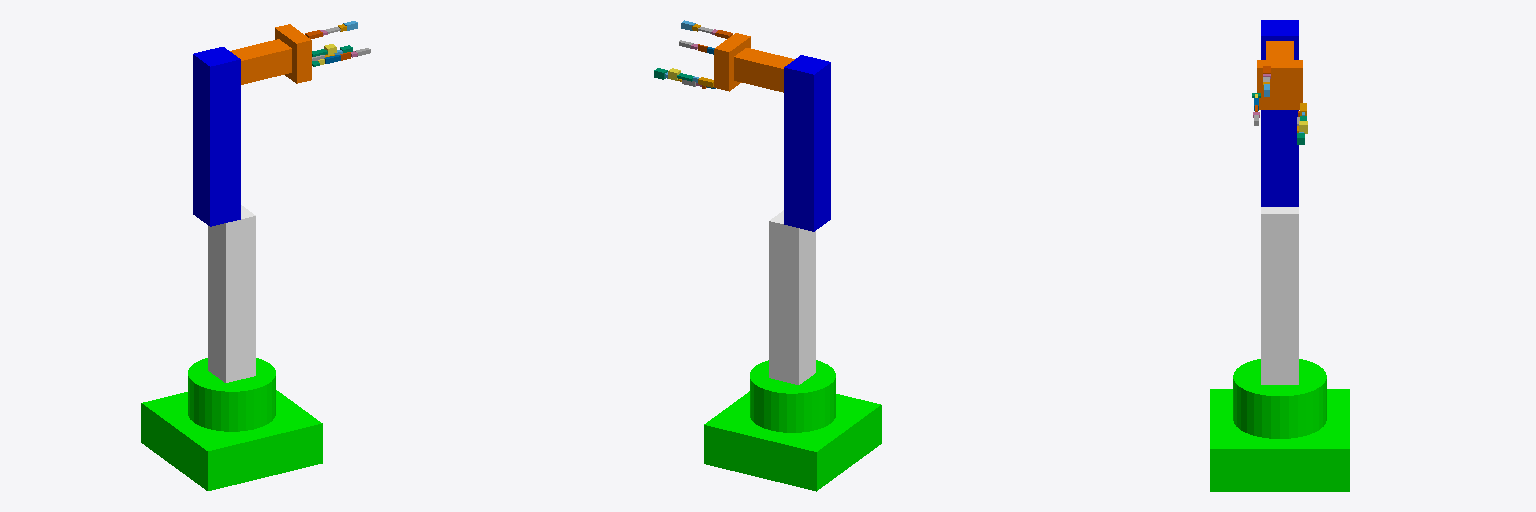
The robot description file, URDF, robot "robot":
<?xml version='1.0' encoding='utf-8'?>
<robot name="robot">
  <link name="base_link">
    <visual>
      <origin xyz="0 0 0.125" rpy="0 0 0" />
      <geometry>
        <box size="0.75 0.75 0.25" />
      </geometry>
      <material name="green" />
    </visual>
    <visual>
      <origin xyz="0 0 0.375" rpy="0 0 0" />
      <geometry>
        <cylinder length="0.25" radius="0.25" />
      </geometry>
      <material name="green">
        <color rgba="0 1 0 1" />
      </material>
    </visual>
    <collision>
      <geometry>
        <box size="0.75 0.75 0.5" />
      </geometry>
    </collision>
    <inertial>
      <mass value="0.5" />
      <inertia ixx="0.034" ixy="0.0" ixz="0.0" iyy="0.034" iyz="0.0" izz="0.034" />
    </inertial>
  </link>
  <link name="support_link">
    <visual>
      <origin xyz="0 0 0.5" rpy="0 0 0" />
      <geometry>
        <box size="0.2 0.2 1" />
      </geometry>
      <material name="white">
        <color rgba="1 1 1 1" />
      </material>
    </visual>
    <collision>
      <geometry>
        <box size="0.2 0.2 1" />
      </geometry>
    </collision>
    <inertial>
      <mass value="0.1" />
      <inertia ixx="0.01" ixy="0.0" ixz="0.0" iyy="0.01" iyz="0.0" izz="0.01" />
    </inertial>
  </link>
  <joint name="support_joint" type="continuous">
    <origin xyz="0 0 0.5" rpy="0 0 0" />
    <parent link="base_link" />
    <child link="support_link" />
    <axis xyz="0 0 1" />
  </joint>
  <link name="arm_link">
    <visual>
      <origin xyz="0 0 0.5" rpy="0 0 0" />
      <geometry>
        <box size="0.2 0.2 1" />
      </geometry>
      <material name="blue">
        <color rgba="0 0 1 1" />
      </material>
    </visual>
    <collision>
      <geometry>
        <box size="0.2 0.2 1" />
      </geometry>
    </collision>
    <inertial>
      <mass value="0.1" />
      <inertia ixx="0.01" ixy="0.0" ixz="0.0" iyy="0.01" iyz="0.0" izz="0.01" />
    </inertial>
  </link>
  <joint name="arm_joint" type="revolute">
    <origin xyz="-0.1 0 1" rpy="0 0 0" />
    <parent link="support_link" />
    <child link="arm_link" />
    <axis xyz="0 1 0" />
    <limit lower="-3.14" upper="3.14" effort="1.0" velocity="1.0" />
  </joint>
  <link name="wrist_link">
    <visual>
      <origin xyz="0 0 0.25" rpy="0 0 0" />
      <geometry>
        <box size="0.15 0.15 0.5" />
      </geometry>
      <material name="orange">
        <color rgba="1 0.5 0 1" />
      </material>
    </visual>
    <collision>
      <geometry>
        <box size="0.15 0.15 0.5" />
      </geometry>
    </collision>
    <inertial>
      <mass value="0.1" />
      <inertia ixx="0.01" ixy="0.0" ixz="0.0" iyy="0.01" iyz="0.0" izz="0.01" />
    </inertial>
  </link>
  <joint name="wrist_joint" type="fixed">
    <origin xyz="0 0 0.9" rpy="0 1.571 0" />
    <parent link="arm_link" />
    <child link="wrist_link" />
  </joint>
  <link name="palm_link">
    <visual>
      <origin xyz="0 0 0.05" rpy="0 0 0" />
      <geometry>
        <box size="0.25 0.25 0.1" />
      </geometry>
      <material name="orange" />
    </visual>
    <collision>
      <geometry>
        <box size="0.25 0.25 0.1" />
      </geometry>
    </collision>
    <inertial>
      <mass value="0.1" />
      <inertia ixx="0.01" ixy="0.0" ixz="0.0" iyy="0.01" iyz="0.0" izz="0.01" />
    </inertial>
  </link>
  <joint name="palm_joint" type="fixed">
    <origin xyz="0 0 0.45" rpy="0 0 0" />
    <parent link="wrist_link" />
    <child link="palm_link" />
  </joint>
  <link name="finger_link_0_0">
    <visual>
      <origin xyz="0 0 0.046" rpy="0 0 0" />
      <geometry>
        <box size="0.023 0.045 0.092" />
      </geometry>
    </visual>
    <collision>
      <geometry>
        <box size="0.023 0.045 0.092" />
      </geometry>
    </collision>
    <inertial>
      <mass value="0.029" />
      <inertia ixx="0.0" iyy="0.0" izz="0.0" ixy="0" ixz="0" iyz="0" />
    </inertial>
  </link>
  <joint name="finger_joint_palm_link_to_finger_link_0_0" type="revolute">
    <origin xyz="-0.125 -0.07 0.1" rpy="0 0 0" />
    <parent link="palm_link" />
    <child link="finger_link_0_0" />
    <axis xyz="0.0 -1.0 0.0" />
    <limit lower="-3.142" upper="3.142" effort="10" velocity="10" />
  </joint>
  <link name="finger_link_0_1">
    <visual>
      <origin xyz="0 0 0.0155" rpy="0 0 0" />
      <geometry>
        <box size="0.015 0.043 0.031" />
      </geometry>
    </visual>
    <collision>
      <geometry>
        <box size="0.015 0.043 0.031" />
      </geometry>
    </collision>
    <inertial>
      <mass value="0.006" />
      <inertia ixx="0.0" iyy="0.0" izz="0.0" ixy="0" ixz="0" iyz="0" />
    </inertial>
  </link>
  <joint name="finger_joint_finger_link_0_0_to_finger_link_0_1" type="revolute">
    <origin xyz="0.0 0.0 0.092" rpy="0 0 0" />
    <parent link="finger_link_0_0" />
    <child link="finger_link_0_1" />
    <axis xyz="0.0 1.0 0.0" />
    <limit lower="-3.142" upper="3.142" effort="10" velocity="10" />
  </joint>
  <link name="finger_link_0_2">
    <visual>
      <origin xyz="0 0 0.044" rpy="0 0 0" />
      <geometry>
        <box size="0.011 0.037 0.088" />
      </geometry>
    </visual>
    <collision>
      <geometry>
        <box size="0.011 0.037 0.088" />
      </geometry>
    </collision>
    <inertial>
      <mass value="0.011" />
      <inertia ixx="0.0" iyy="0.0" izz="0.0" ixy="0" ixz="0" iyz="0" />
    </inertial>
  </link>
  <joint name="finger_joint_finger_link_0_1_to_finger_link_0_2" type="revolute">
    <origin xyz="0.0 0.0 0.031" rpy="0 0 0" />
    <parent link="finger_link_0_1" />
    <child link="finger_link_0_2" />
    <axis xyz="0.0 1.0 0.0" />
    <limit lower="-3.142" upper="3.142" effort="10" velocity="10" />
  </joint>
  <link name="finger_link_0_3">
    <visual>
      <origin xyz="0 0 0.0185" rpy="0 0 0" />
      <geometry>
        <box size="0.025 0.038 0.037" />
      </geometry>
    </visual>
    <collision>
      <geometry>
        <box size="0.025 0.038 0.037" />
      </geometry>
    </collision>
    <inertial>
      <mass value="0.011" />
      <inertia ixx="0.0" iyy="0.0" izz="0.0" ixy="0" ixz="0" iyz="0" />
    </inertial>
  </link>
  <joint name="finger_joint_finger_link_0_2_to_finger_link_0_3" type="revolute">
    <origin xyz="0.0 0.0 0.088" rpy="0 0 0" />
    <parent link="finger_link_0_2" />
    <child link="finger_link_0_3" />
    <axis xyz="1.0 0.0 0.0" />
    <limit lower="-3.142" upper="3.142" effort="10" velocity="10" />
  </joint>
  <link name="finger_link_0_4">
    <visual>
      <origin xyz="0 0 0.037" rpy="0 0 0" />
      <geometry>
        <box size="0.037 0.035 0.074" />
      </geometry>
    </visual>
    <collision>
      <geometry>
        <box size="0.037 0.035 0.074" />
      </geometry>
    </collision>
    <inertial>
      <mass value="0.029" />
      <inertia ixx="0.0" iyy="0.0" izz="0.0" ixy="0" ixz="0" iyz="0" />
    </inertial>
  </link>
  <joint name="finger_joint_finger_link_0_3_to_finger_link_0_4" type="revolute">
    <origin xyz="0.0 0.0 0.037" rpy="0 0 0" />
    <parent link="finger_link_0_3" />
    <child link="finger_link_0_4" />
    <axis xyz="0.0 1.0 0.0" />
    <limit lower="-3.142" upper="3.142" effort="10" velocity="10" />
  </joint>
  <link name="finger_link_1_0">
    <visual>
      <origin xyz="0 0 0.021" rpy="0 0 0" />
      <geometry>
        <box size="0.011 0.048 0.042" />
      </geometry>
    </visual>
    <collision>
      <geometry>
        <box size="0.011 0.048 0.042" />
      </geometry>
    </collision>
    <inertial>
      <mass value="0.007" />
      <inertia ixx="0.0" iyy="0.0" izz="0.0" ixy="0" ixz="0" iyz="0" />
    </inertial>
  </link>
  <joint name="finger_joint_palm_link_to_finger_link_1_0" type="revolute">
    <origin xyz="0.027 -0.125 0.1" rpy="0 0 0" />
    <parent link="palm_link" />
    <child link="finger_link_1_0" />
    <axis xyz="1.0 0.0 0.0" />
    <limit lower="-3.142" upper="3.142" effort="10" velocity="10" />
  </joint>
  <link name="finger_link_1_1">
    <visual>
      <origin xyz="0 0 0.0215" rpy="0 0 0" />
      <geometry>
        <box size="0.031 0.012 0.043" />
      </geometry>
    </visual>
    <collision>
      <geometry>
        <box size="0.031 0.012 0.043" />
      </geometry>
    </collision>
    <inertial>
      <mass value="0.005" />
      <inertia ixx="0.0" iyy="0.0" izz="0.0" ixy="0" ixz="0" iyz="0" />
    </inertial>
  </link>
  <joint name="finger_joint_finger_link_1_0_to_finger_link_1_1" type="revolute">
    <origin xyz="0.0 0.0 0.042" rpy="0 0 0" />
    <parent link="finger_link_1_0" />
    <child link="finger_link_1_1" />
    <axis xyz="1.0 0.0 0.0" />
    <limit lower="-3.142" upper="3.142" effort="10" velocity="10" />
  </joint>
  <link name="finger_link_1_2">
    <visual>
      <origin xyz="0 0 0.0495" rpy="0 0 0" />
      <geometry>
        <box size="0.031 0.023 0.099" />
      </geometry>
    </visual>
    <collision>
      <geometry>
        <box size="0.031 0.023 0.099" />
      </geometry>
    </collision>
    <inertial>
      <mass value="0.021" />
      <inertia ixx="0.0" iyy="0.0" izz="0.0" ixy="0" ixz="0" iyz="0" />
    </inertial>
  </link>
  <joint name="finger_joint_finger_link_1_1_to_finger_link_1_2" type="revolute">
    <origin xyz="0.0 0.0 0.043" rpy="0 0 0" />
    <parent link="finger_link_1_1" />
    <child link="finger_link_1_2" />
    <axis xyz="0.0 1.0 0.0" />
    <limit lower="-3.142" upper="3.142" effort="10" velocity="10" />
  </joint>
  <link name="finger_link_1_3">
    <visual>
      <origin xyz="0 0 0.034" rpy="0 0 0" />
      <geometry>
        <box size="0.037 0.013 0.068" />
      </geometry>
    </visual>
    <collision>
      <geometry>
        <box size="0.037 0.013 0.068" />
      </geometry>
    </collision>
    <inertial>
      <mass value="0.01" />
      <inertia ixx="0.0" iyy="0.0" izz="0.0" ixy="0" ixz="0" iyz="0" />
    </inertial>
  </link>
  <joint name="finger_joint_finger_link_1_2_to_finger_link_1_3" type="revolute">
    <origin xyz="0.0 0.0 0.099" rpy="0 0 0" />
    <parent link="finger_link_1_2" />
    <child link="finger_link_1_3" />
    <axis xyz="1.0 0.0 0.0" />
    <limit lower="-3.142" upper="3.142" effort="10" velocity="10" />
  </joint>
  <link name="finger_link_1_4">
    <visual>
      <origin xyz="0 0 0.019" rpy="0 0 0" />
      <geometry>
        <box size="0.018 0.035 0.038" />
      </geometry>
    </visual>
    <collision>
      <geometry>
        <box size="0.018 0.035 0.038" />
      </geometry>
    </collision>
    <inertial>
      <mass value="0.007" />
      <inertia ixx="0.0" iyy="0.0" izz="0.0" ixy="0" ixz="0" iyz="0" />
    </inertial>
  </link>
  <joint name="finger_joint_finger_link_1_3_to_finger_link_1_4" type="revolute">
    <origin xyz="0.0 0.0 0.068" rpy="0 0 0" />
    <parent link="finger_link_1_3" />
    <child link="finger_link_1_4" />
    <axis xyz="0.0 1.0 0.0" />
    <limit lower="-3.142" upper="3.142" effort="10" velocity="10" />
  </joint>
  <link name="finger_link_1_5">
    <visual>
      <origin xyz="0 0 0.0425" rpy="0 0 0" />
      <geometry>
        <box size="0.025 0.027 0.085" />
      </geometry>
    </visual>
    <collision>
      <geometry>
        <box size="0.025 0.027 0.085" />
      </geometry>
    </collision>
    <inertial>
      <mass value="0.017" />
      <inertia ixx="0.0" iyy="0.0" izz="0.0" ixy="0" ixz="0" iyz="0" />
    </inertial>
  </link>
  <joint name="finger_joint_finger_link_1_4_to_finger_link_1_5" type="revolute">
    <origin xyz="0.0 0.0 0.038" rpy="0 0 0" />
    <parent link="finger_link_1_4" />
    <child link="finger_link_1_5" />
    <axis xyz="0.0 1.0 0.0" />
    <limit lower="-3.142" upper="3.142" effort="10" velocity="10" />
  </joint>
  <link name="finger_link_2_0">
    <visual>
      <origin xyz="0 0 0.0485" rpy="0 0 0" />
      <geometry>
        <box size="0.033 0.037 0.097" />
      </geometry>
    </visual>
    <collision>
      <geometry>
        <box size="0.033 0.037 0.097" />
      </geometry>
    </collision>
    <inertial>
      <mass value="0.036" />
      <inertia ixx="0.0" iyy="0.0" izz="0.0" ixy="0" ixz="0" iyz="0" />
    </inertial>
  </link>
  <joint name="finger_joint_palm_link_to_finger_link_2_0" type="revolute">
    <origin xyz="0.101 0.125 0.1" rpy="0 0 0" />
    <parent link="palm_link" />
    <child link="finger_link_2_0" />
    <axis xyz="-1.0 0.0 0.0" />
    <limit lower="-3.142" upper="3.142" effort="10" velocity="10" />
  </joint>
  <link name="finger_link_2_1">
    <visual>
      <origin xyz="0 0 0.0215" rpy="0 0 0" />
      <geometry>
        <box size="0.027 0.018 0.043" />
      </geometry>
    </visual>
    <collision>
      <geometry>
        <box size="0.027 0.018 0.043" />
      </geometry>
    </collision>
    <inertial>
      <mass value="0.006" />
      <inertia ixx="0.0" iyy="0.0" izz="0.0" ixy="0" ixz="0" iyz="0" />
    </inertial>
  </link>
  <joint name="finger_joint_finger_link_2_0_to_finger_link_2_1" type="revolute">
    <origin xyz="0.0 0.0 0.097" rpy="0 0 0" />
    <parent link="finger_link_2_0" />
    <child link="finger_link_2_1" />
    <axis xyz="0.0 1.0 0.0" />
    <limit lower="-3.142" upper="3.142" effort="10" velocity="10" />
  </joint>
  <link name="finger_link_2_2">
    <visual>
      <origin xyz="0 0 0.048" rpy="0 0 0" />
      <geometry>
        <box size="0.017 0.042 0.096" />
      </geometry>
    </visual>
    <collision>
      <geometry>
        <box size="0.017 0.042 0.096" />
      </geometry>
    </collision>
    <inertial>
      <mass value="0.021" />
      <inertia ixx="0.0" iyy="0.0" izz="0.0" ixy="0" ixz="0" iyz="0" />
    </inertial>
  </link>
  <joint name="finger_joint_finger_link_2_1_to_finger_link_2_2" type="revolute">
    <origin xyz="0.0 0.0 0.043" rpy="0 0 0" />
    <parent link="finger_link_2_1" />
    <child link="finger_link_2_2" />
    <axis xyz="0.0 1.0 0.0" />
    <limit lower="-3.142" upper="3.142" effort="10" velocity="10" />
  </joint>
  <link name="finger_link_2_3">
    <visual>
      <origin xyz="0 0 0.0285" rpy="0 0 0" />
      <geometry>
        <box size="0.049 0.049 0.057" />
      </geometry>
    </visual>
    <collision>
      <geometry>
        <box size="0.049 0.049 0.057" />
      </geometry>
    </collision>
    <inertial>
      <mass value="0.041" />
      <inertia ixx="0.0" iyy="0.0" izz="0.0" ixy="0" ixz="0" iyz="0" />
    </inertial>
  </link>
  <joint name="finger_joint_finger_link_2_2_to_finger_link_2_3" type="revolute">
    <origin xyz="0.0 0.0 0.096" rpy="0 0 0" />
    <parent link="finger_link_2_2" />
    <child link="finger_link_2_3" />
    <axis xyz="1.0 0.0 0.0" />
    <limit lower="-3.142" upper="3.142" effort="10" velocity="10" />
  </joint>
  <link name="finger_link_3_0">
    <visual>
      <origin xyz="0 0 0.0305" rpy="0 0 0" />
      <geometry>
        <box size="0.023 0.013 0.061" />
      </geometry>
    </visual>
    <collision>
      <geometry>
        <box size="0.023 0.013 0.061" />
      </geometry>
    </collision>
    <inertial>
      <mass value="0.005" />
      <inertia ixx="0.0" iyy="0.0" izz="0.0" ixy="0" ixz="0" iyz="0" />
    </inertial>
  </link>
  <joint name="finger_joint_palm_link_to_finger_link_3_0" type="revolute">
    <origin xyz="0.125 0.113 0.1" rpy="0 0 0" />
    <parent link="palm_link" />
    <child link="finger_link_3_0" />
    <axis xyz="0.0 1.0 0.0" />
    <limit lower="-3.142" upper="3.142" effort="10" velocity="10" />
  </joint>
  <link name="finger_link_3_1">
    <visual>
      <origin xyz="0 0 0.01" rpy="0 0 0" />
      <geometry>
        <box size="0.047 0.03 0.02" />
      </geometry>
    </visual>
    <collision>
      <geometry>
        <box size="0.047 0.03 0.02" />
      </geometry>
    </collision>
    <inertial>
      <mass value="0.008" />
      <inertia ixx="0.0" iyy="0.0" izz="0.0" ixy="0" ixz="0" iyz="0" />
    </inertial>
  </link>
  <joint name="finger_joint_finger_link_3_0_to_finger_link_3_1" type="revolute">
    <origin xyz="0.0 0.0 0.061" rpy="0 0 0" />
    <parent link="finger_link_3_0" />
    <child link="finger_link_3_1" />
    <axis xyz="0.0 1.0 0.0" />
    <limit lower="-3.142" upper="3.142" effort="10" velocity="10" />
  </joint>
  <link name="finger_link_3_2">
    <visual>
      <origin xyz="0 0 0.021" rpy="0 0 0" />
      <geometry>
        <box size="0.029 0.017 0.042" />
      </geometry>
    </visual>
    <collision>
      <geometry>
        <box size="0.029 0.017 0.042" />
      </geometry>
    </collision>
    <inertial>
      <mass value="0.006" />
      <inertia ixx="0.0" iyy="0.0" izz="0.0" ixy="0" ixz="0" iyz="0" />
    </inertial>
  </link>
  <joint name="finger_joint_finger_link_3_1_to_finger_link_3_2" type="revolute">
    <origin xyz="0.0 0.0 0.02" rpy="0 0 0" />
    <parent link="finger_link_3_1" />
    <child link="finger_link_3_2" />
    <axis xyz="0.0 1.0 0.0" />
    <limit lower="-3.142" upper="3.142" effort="10" velocity="10" />
  </joint>
  <link name="finger_link_3_3">
    <visual>
      <origin xyz="0 0 0.0445" rpy="0 0 0" />
      <geometry>
        <box size="0.037 0.046 0.089" />
      </geometry>
    </visual>
    <collision>
      <geometry>
        <box size="0.037 0.046 0.089" />
      </geometry>
    </collision>
    <inertial>
      <mass value="0.045" />
      <inertia ixx="0.0" iyy="0.0" izz="0.0" ixy="0" ixz="0" iyz="0" />
    </inertial>
  </link>
  <joint name="finger_joint_finger_link_3_2_to_finger_link_3_3" type="revolute">
    <origin xyz="0.0 0.0 0.042" rpy="0 0 0" />
    <parent link="finger_link_3_2" />
    <child link="finger_link_3_3" />
    <axis xyz="0.0 1.0 0.0" />
    <limit lower="-3.142" upper="3.142" effort="10" velocity="10" />
  </joint>
  <link name="finger_link_3_4">
    <visual>
      <origin xyz="0 0 0.0325" rpy="0 0 0" />
      <geometry>
        <box size="0.012 0.048 0.065" />
      </geometry>
    </visual>
    <collision>
      <geometry>
        <box size="0.012 0.048 0.065" />
      </geometry>
    </collision>
    <inertial>
      <mass value="0.011" />
      <inertia ixx="0.0" iyy="0.0" izz="0.0" ixy="0" ixz="0" iyz="0" />
    </inertial>
  </link>
  <joint name="finger_joint_finger_link_3_3_to_finger_link_3_4" type="revolute">
    <origin xyz="0.0 0.0 0.089" rpy="0 0 0" />
    <parent link="finger_link_3_3" />
    <child link="finger_link_3_4" />
    <axis xyz="1.0 0.0 0.0" />
    <limit lower="-3.142" upper="3.142" effort="10" velocity="10" />
  </joint>
  <link name="finger_link_3_5">
    <visual>
      <origin xyz="0 0 0.027" rpy="0 0 0" />
      <geometry>
        <box size="0.024 0.027 0.054" />
      </geometry>
    </visual>
    <collision>
      <geometry>
        <box size="0.024 0.027 0.054" />
      </geometry>
    </collision>
    <inertial>
      <mass value="0.01" />
      <inertia ixx="0.0" iyy="0.0" izz="0.0" ixy="0" ixz="0" iyz="0" />
    </inertial>
  </link>
  <joint name="finger_joint_finger_link_3_4_to_finger_link_3_5" type="revolute">
    <origin xyz="0.0 0.0 0.065" rpy="0 0 0" />
    <parent link="finger_link_3_4" />
    <child link="finger_link_3_5" />
    <axis xyz="0.0 1.0 0.0" />
    <limit lower="-3.142" upper="3.142" effort="10" velocity="10" />
  </joint>
  <link name="finger_link_3_6">
    <visual>
      <origin xyz="0 0 0.0315" rpy="0 0 0" />
      <geometry>
        <box size="0.045 0.042 0.063" />
      </geometry>
    </visual>
    <collision>
      <geometry>
        <box size="0.045 0.042 0.063" />
      </geometry>
    </collision>
    <inertial>
      <mass value="0.036" />
      <inertia ixx="0.0" iyy="0.0" izz="0.0" ixy="0" ixz="0" iyz="0" />
    </inertial>
  </link>
  <joint name="finger_joint_finger_link_3_5_to_finger_link_3_6" type="revolute">
    <origin xyz="0.0 0.0 0.054" rpy="0 0 0" />
    <parent link="finger_link_3_5" />
    <child link="finger_link_3_6" />
    <axis xyz="0.0 1.0 0.0" />
    <limit lower="-3.142" upper="3.142" effort="10" velocity="10" />
  </joint>
</robot>

--- Facts derived from the render (not from the file) ---
Views: 3 orthographic renders of the robot side by side, from view 1: azimuth 30°, elevation 25°; view 2: azimuth 150°, elevation 25°; view 3: azimuth 270°, elevation 25°.
Robot: robot — 27 links, 26 joints (23 revolute, 1 continuous, 2 fixed); root link base_link; default pose: all joints at 0.
Visible links, largest first — view 1: base_link, arm_link, support_link, wrist_link, palm_link; view 2: base_link, arm_link, support_link, wrist_link, palm_link; view 3: base_link, support_link, arm_link, palm_link, wrist_link.
Boxes of the visible links, <box> form: base_link: <box>141,358,322,490</box>; arm_link: <box>193,47,240,226</box>; support_link: <box>208,205,255,382</box>; wrist_link: <box>230,39,291,84</box>; palm_link: <box>275,24,311,83</box>; base_link: <box>704,360,881,491</box>; arm_link: <box>784,55,830,231</box>; support_link: <box>769,210,815,384</box>; wrist_link: <box>734,48,794,92</box>; palm_link: <box>714,33,750,91</box>; base_link: <box>1210,359,1349,491</box>; support_link: <box>1261,207,1298,384</box>; arm_link: <box>1261,20,1298,206</box>; palm_link: <box>1257,60,1302,109</box>; wrist_link: <box>1266,41,1293,59</box>.
Bounding box of the posed robot: 1.22 × 0.75 × 2.54 m (x, y, z).
Geometry: primitives only (box / cylinder / sphere), no mesh files.